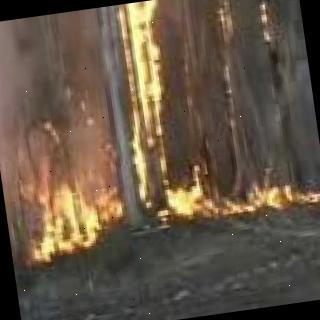fire: (26, 140, 320, 248), (117, 0, 180, 160), (211, 0, 253, 127), (249, 0, 277, 45)
